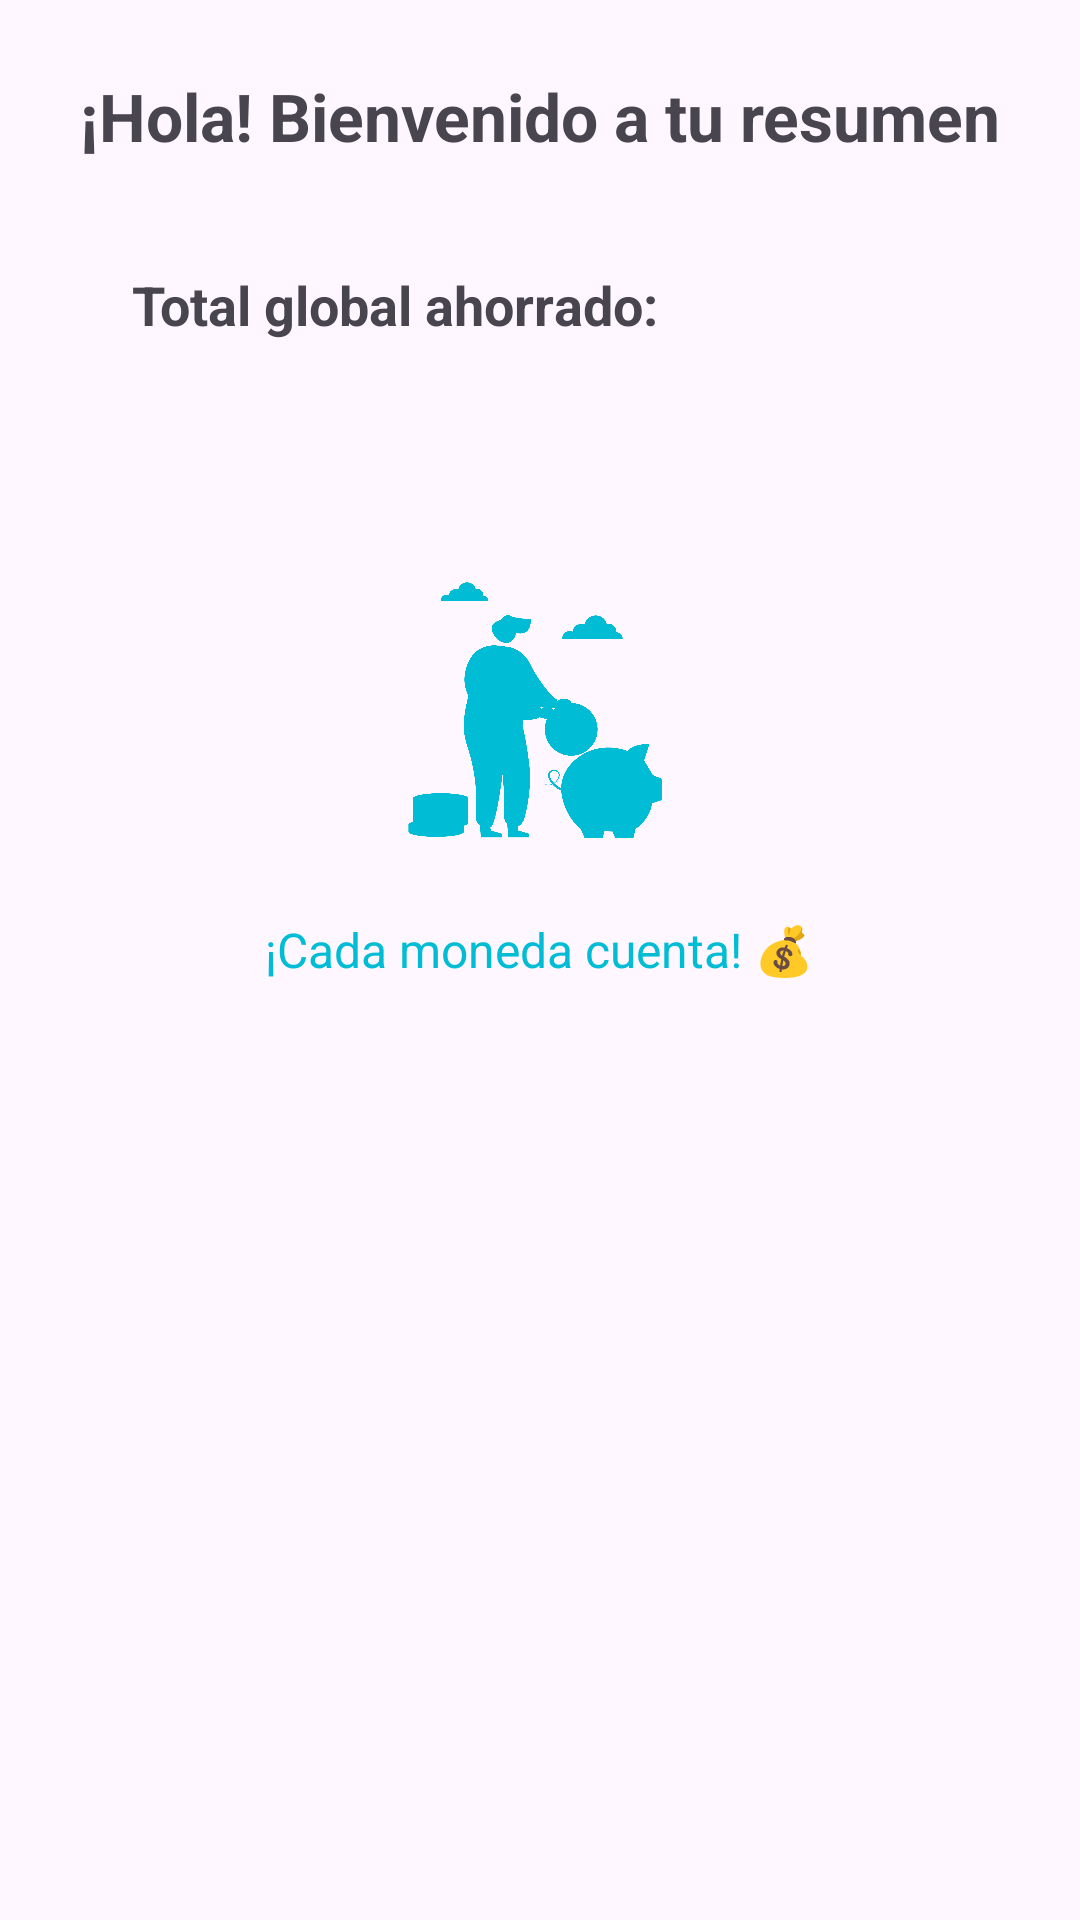

Named icons in this screenshot (1080w x 1920h) and their bounding boxes, (x1, y1, x2, y2):
Icono de alcancía: (408, 582, 662, 838)
